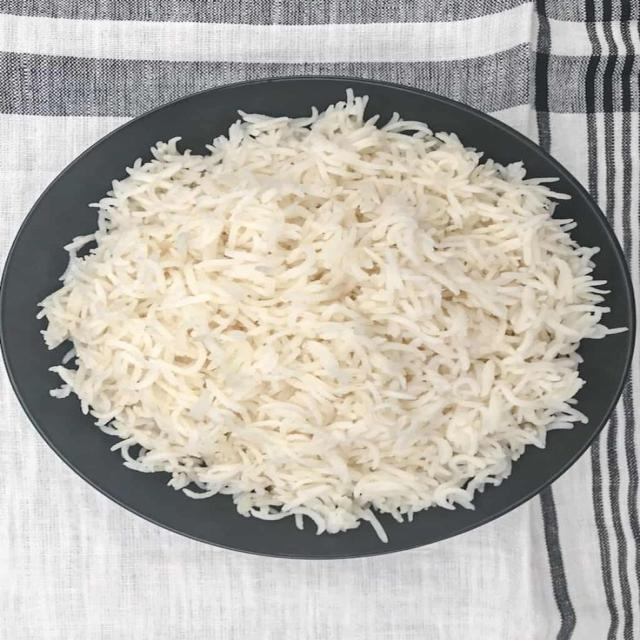rice: (40, 93, 607, 538)
